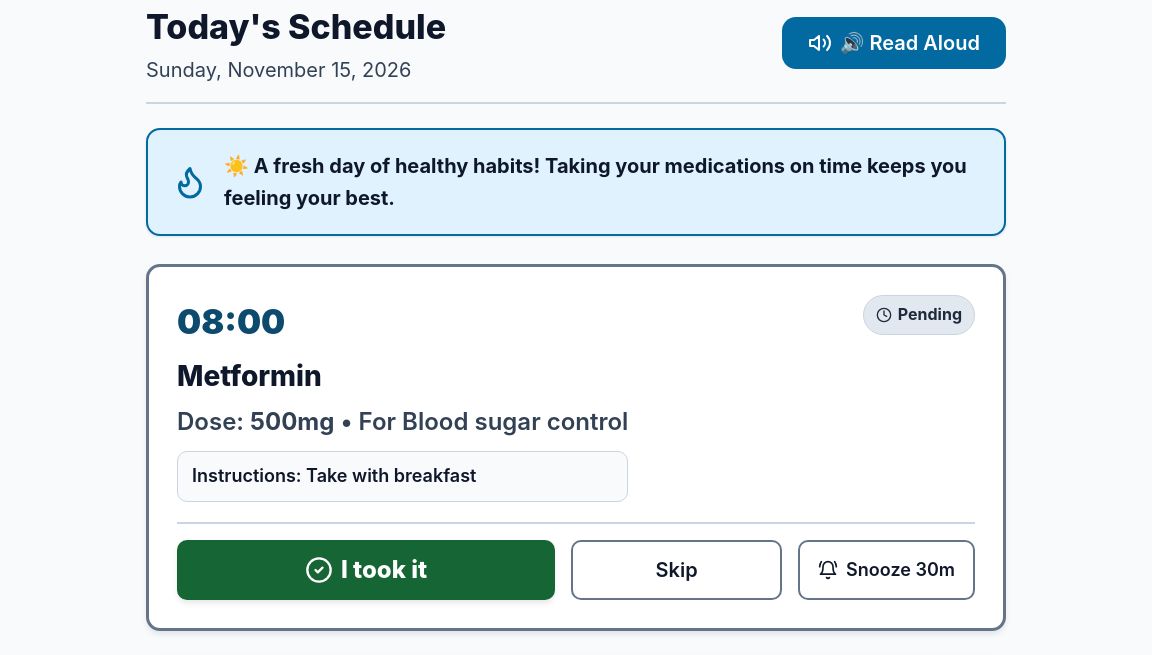
Elder Today Page & Dose Button Tests › clicking the big "I took it" button records dose and updates UI state
Check: the heading "Metformin" is shown, box x1=177 y1=359 x2=322 y2=393
Click the button with aria-label "I took Metformin at 08:00".
click(366, 570)  # box x1=177 y1=540 x2=555 y2=600
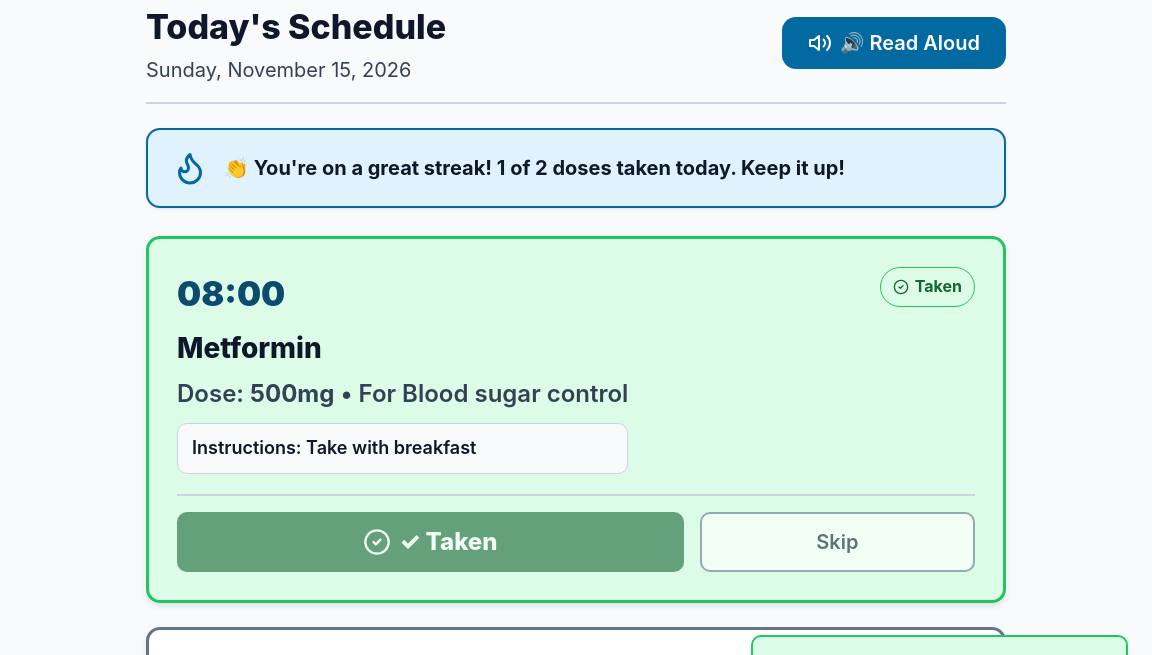
Check: the button with aria-label "I took Metformin at 08:00" reads "✓ Taken", box x1=177 y1=512 x2=684 y2=572
